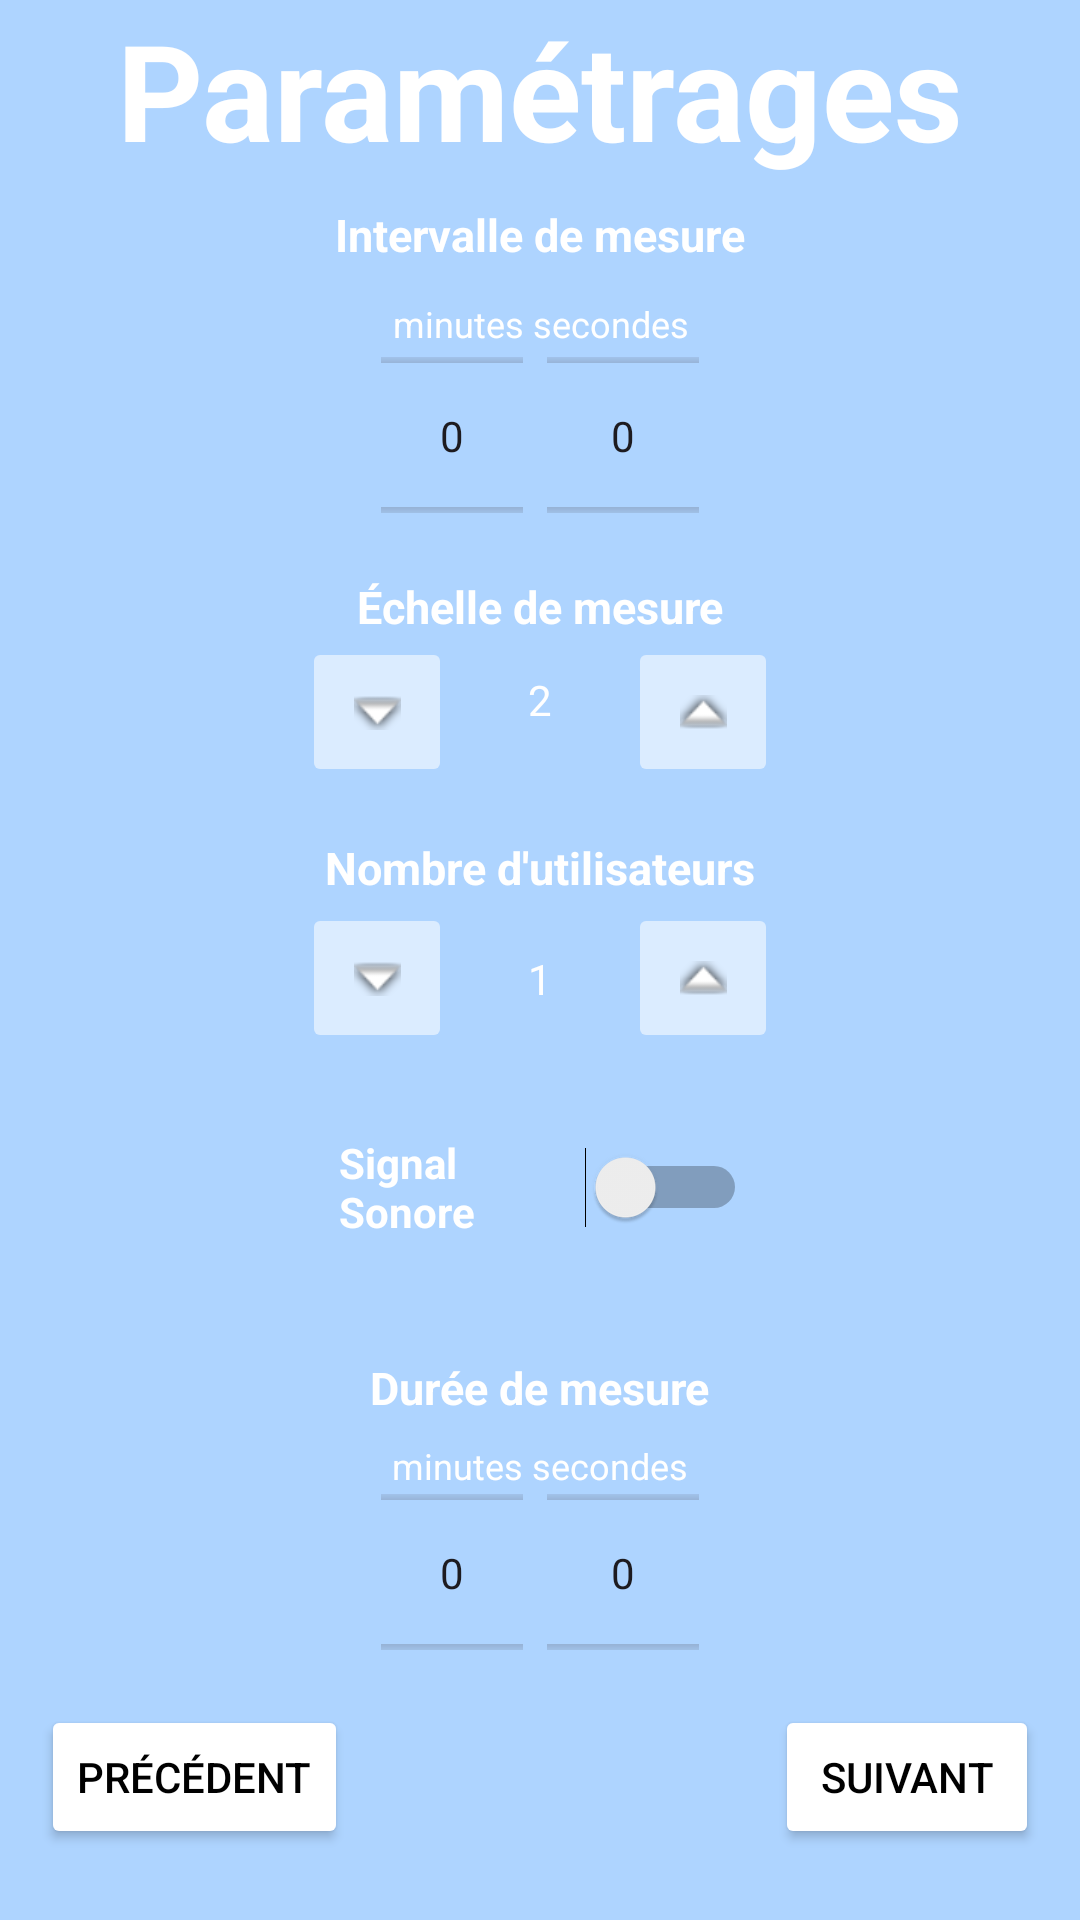

Locate icon controls on the screen. Image size 1080 × 1920, boxes as box(x1, y1, x2, y2).
Bouton qui décrémente l'echelle: box(314, 655, 440, 769)
Bouton qui décrémente le nombre d'utilisateur: box(314, 921, 440, 1035)
Bouton qui incrémente l'échelle: box(640, 655, 766, 769)
Bouton qui incrémente le nombre d'utilisateur: box(640, 921, 766, 1035)
